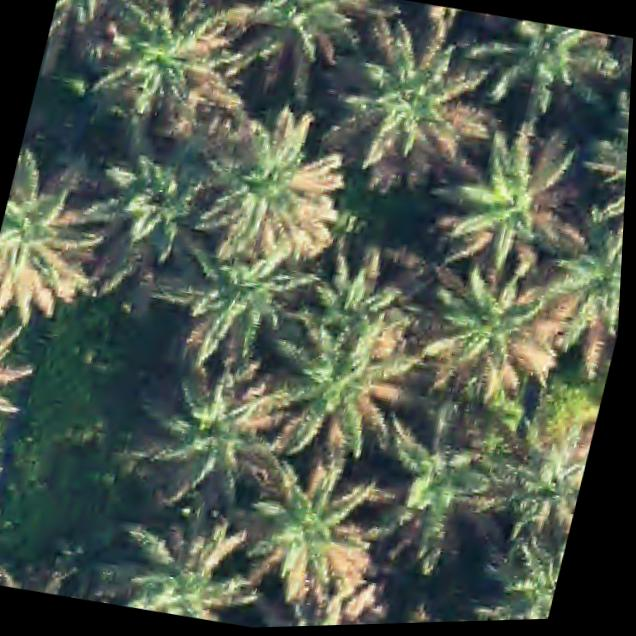oilpalm: (169, 87, 369, 273), (121, 345, 315, 518), (222, 430, 397, 608), (437, 106, 603, 289), (143, 214, 312, 374), (333, 18, 503, 176), (358, 395, 518, 558), (77, 0, 254, 145), (64, 121, 228, 267), (277, 312, 430, 458), (416, 253, 562, 400), (270, 246, 424, 377), (0, 148, 109, 315), (114, 518, 264, 630), (483, 12, 622, 111)
